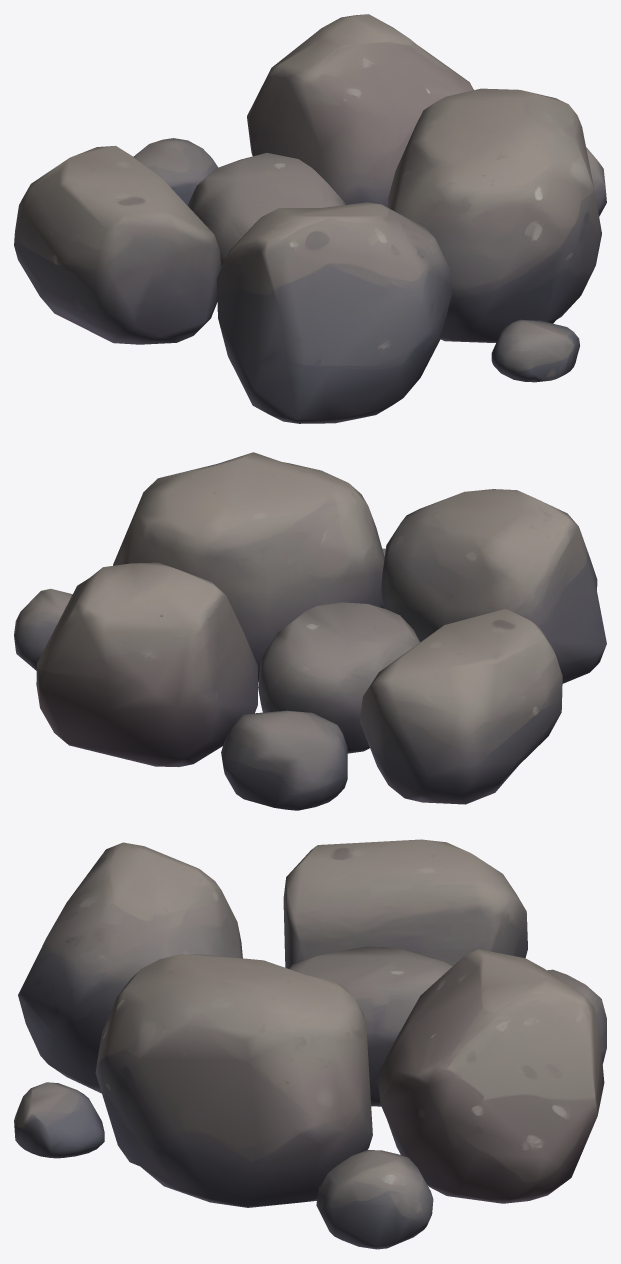
3 renders of one model, top to bottom at view 1: azimuth 30°, elevation 25°; view 2: azimuth 150°, elevation 25°; view 3: azimuth 270°, elevation 25°, orthographic. The views are drawn at different scales.
Parts seen in each view (by area): view 1: tripo_node_74c05ee4-a469-47a9-8086-8a11701c1273; view 2: tripo_node_74c05ee4-a469-47a9-8086-8a11701c1273; view 3: tripo_node_74c05ee4-a469-47a9-8086-8a11701c1273.
Part boxes in pixels (left/top/right/bottom): tripo_node_74c05ee4-a469-47a9-8086-8a11701c1273: left=14, top=14, right=606, bottom=423; tripo_node_74c05ee4-a469-47a9-8086-8a11701c1273: left=14, top=452, right=606, bottom=810; tripo_node_74c05ee4-a469-47a9-8086-8a11701c1273: left=14, top=839, right=606, bottom=1249.
Bounding box in the file's own units: 0.998 × 0.334 × 0.8809.
Materials: 1 (1 with a texture image).
